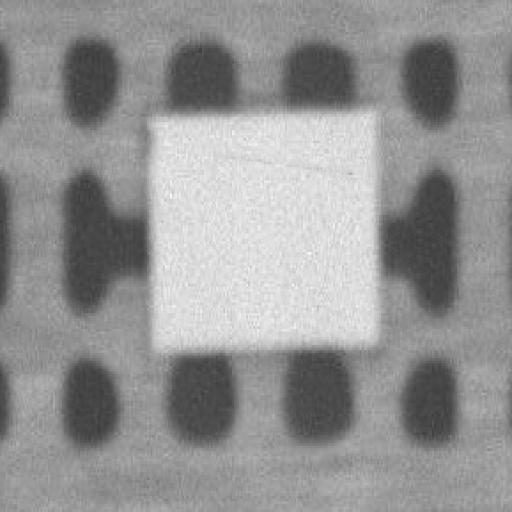DIE_CRACK: (319, 101, 512, 114)
